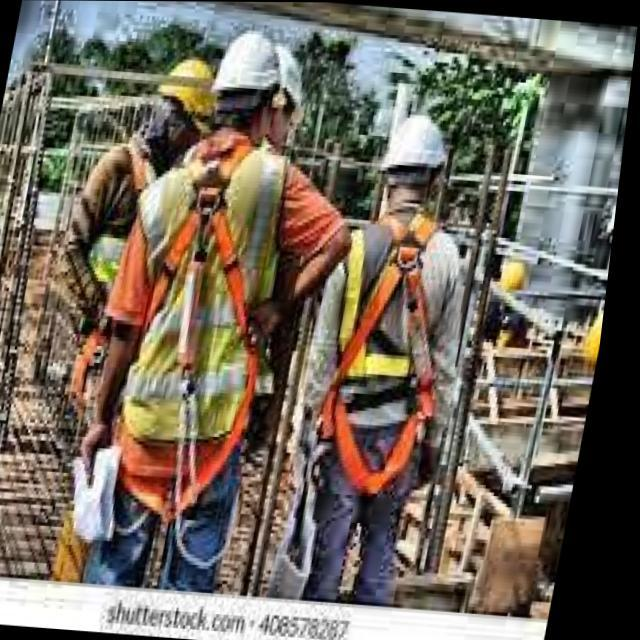belt: (108, 136, 309, 530), (316, 201, 476, 499)
